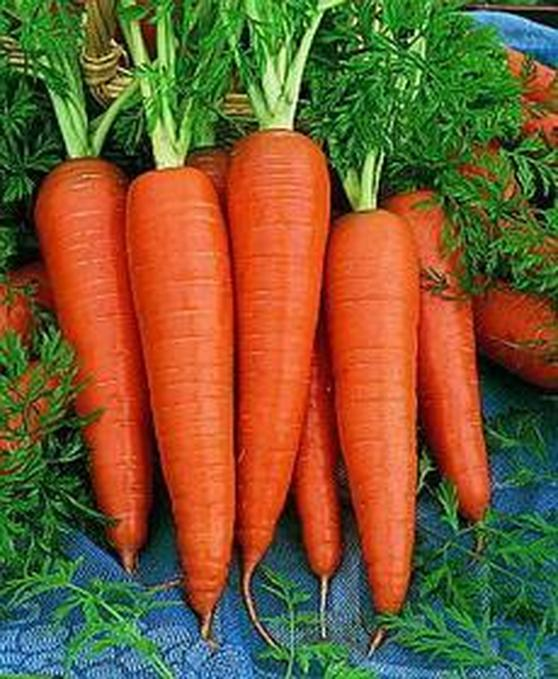carrot: (117, 161, 241, 627), (223, 123, 335, 615), (35, 160, 156, 564), (315, 202, 424, 626), (396, 181, 500, 527)
